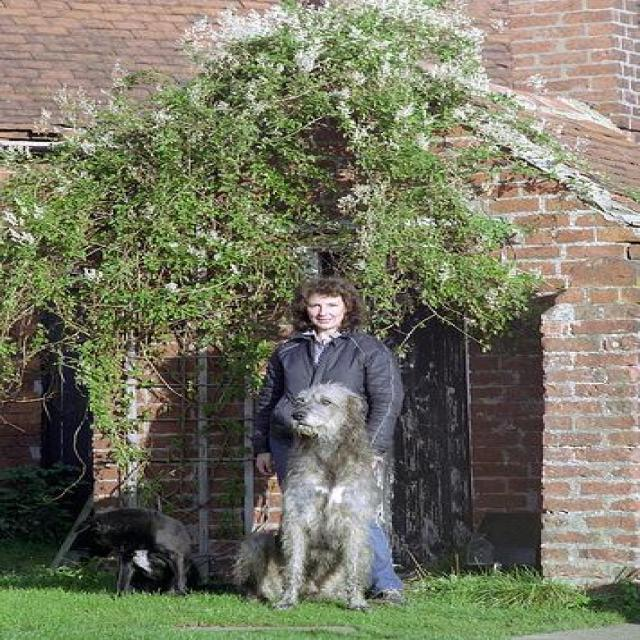irish_wolfhound: (255, 382, 394, 610)
